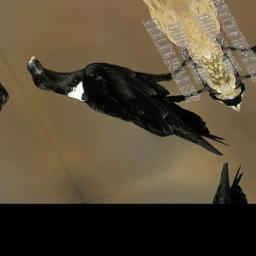Crow: (20, 11, 251, 197)
